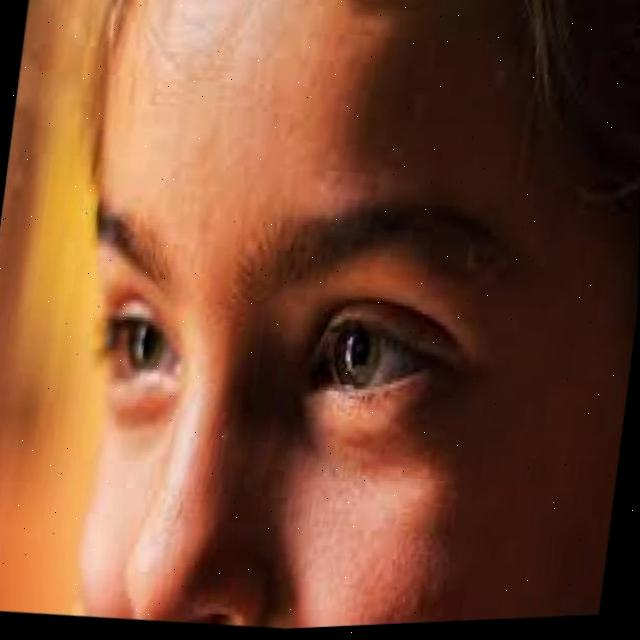puffy_eyes: (280, 386, 475, 492)
